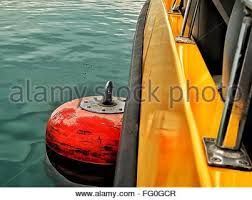buoy: (48, 97, 129, 166)
